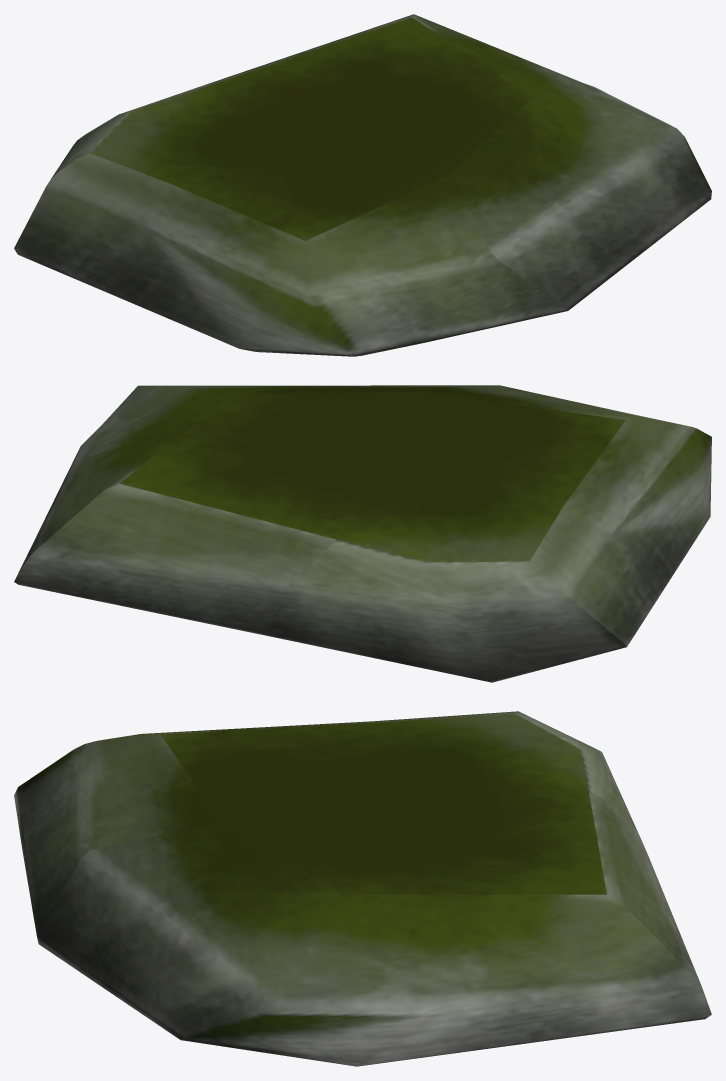
File: rock11_unity.fbx
The picture shows the model from 3 angles, top to bottom: view 1: azimuth 30°, elevation 25°; view 2: azimuth 150°, elevation 25°; view 3: azimuth 270°, elevation 25°; orthographic projection. The views are drawn at different scales.
Visible parts, largest first — view 1: rock 025; view 2: rock 025; view 3: rock 025.
Part boxes in pixels (x1,y1,x2,y2): rock 025: (14, 14, 711, 356); rock 025: (14, 385, 711, 682); rock 025: (14, 711, 711, 1066).
Size of the model in its own units: 39.37 by 35.42 by 7.08.
Materials: 1 (1 with a texture image).
